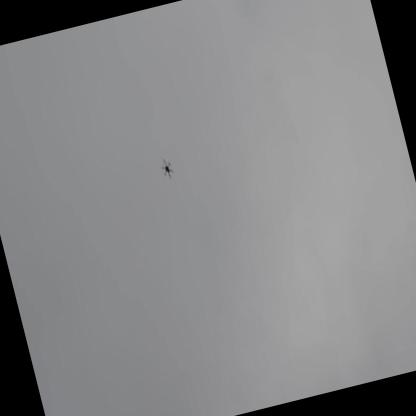drone: (159, 155, 178, 181)
